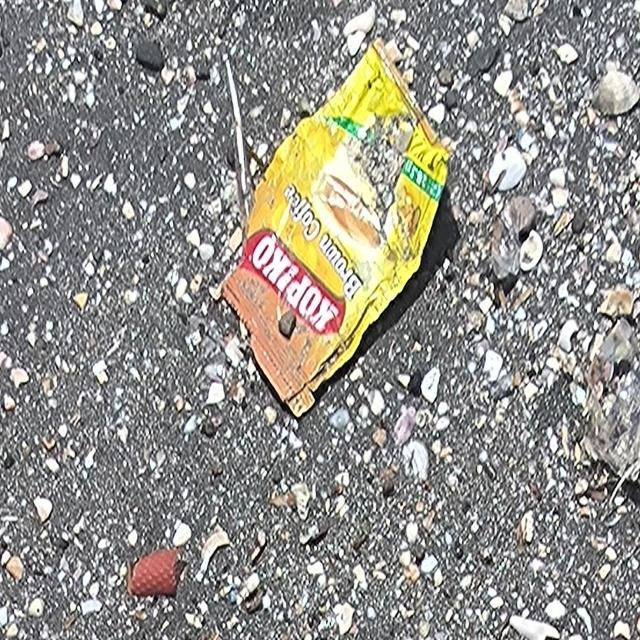plastic_waste: (224, 42, 461, 422)
